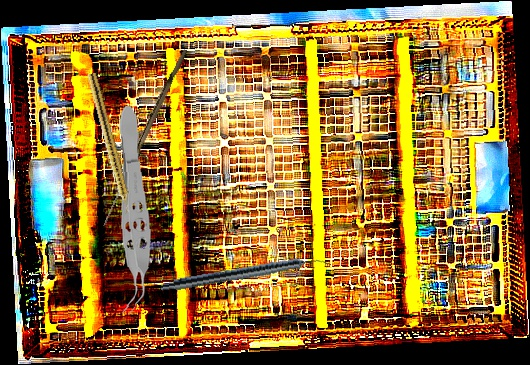Handpiece: (159, 251, 332, 297), (84, 72, 134, 215)
Surgical Spoon: (100, 47, 188, 228)
Tissue Forceps: (110, 104, 155, 316)
